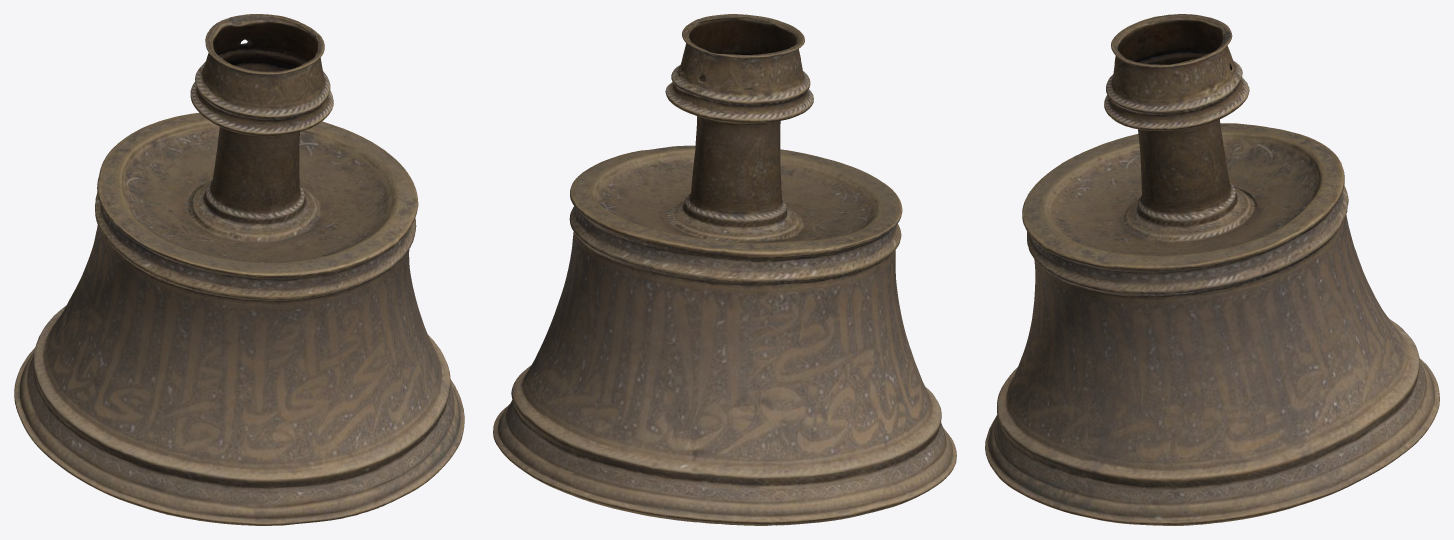
The picture shows the model from 3 angles, left to right: view 1: azimuth 30°, elevation 25°; view 2: azimuth 150°, elevation 25°; view 3: azimuth 270°, elevation 25°; orthographic projection. The views are drawn at different scales.
Parts seen in each view (by area): view 1: ADVIMG_1980_114_Candlestick_Textured_n3d; view 2: ADVIMG_1980_114_Candlestick_Textured_n3d; view 3: ADVIMG_1980_114_Candlestick_Textured_n3d.
Boxes of the visible parts, x1,y1,x2,y2 form: ADVIMG_1980_114_Candlestick_Textured_n3d: [14, 14, 464, 525]; ADVIMG_1980_114_Candlestick_Textured_n3d: [493, 14, 956, 525]; ADVIMG_1980_114_Candlestick_Textured_n3d: [985, 14, 1439, 525].
Size of the model in its own units: 0.2833 by 0.2868 by 0.2823.
1 material, 1 textured.
